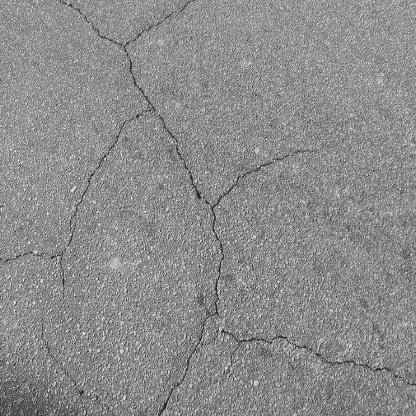Cracks: (10, 131, 119, 288), (117, 42, 214, 206), (221, 327, 416, 393), (38, 312, 134, 416), (207, 144, 320, 208), (0, 0, 127, 48), (154, 319, 213, 416), (129, 0, 244, 44), (202, 209, 228, 315)
